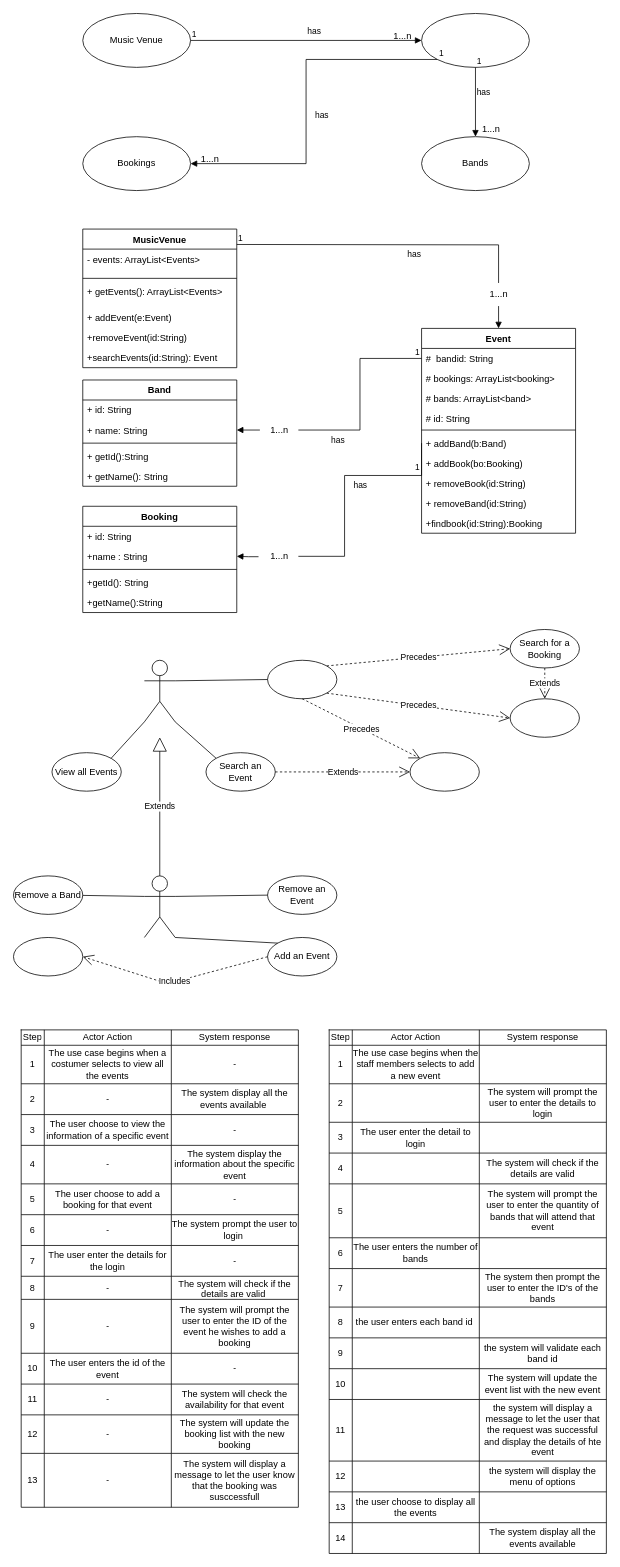
This 620x1567 diagram has some shape labels left out. Here are the shapes that lost their labels. From the top down, the centre of each, then its label:
point 475,40: Events
point 159,691: Costumers
point 302,679: Login
point 544,717: Remove a Booking
point 444,771: Add a Booking
point 159,906: Staff
point 48,956: Add a Band
